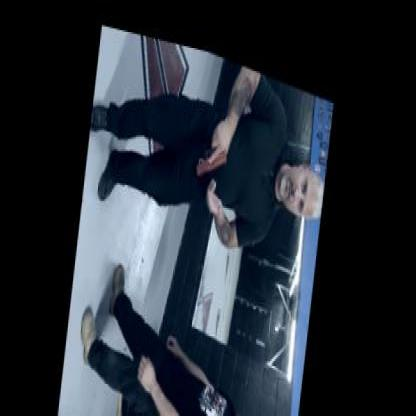pistol: (196, 124, 230, 172)
